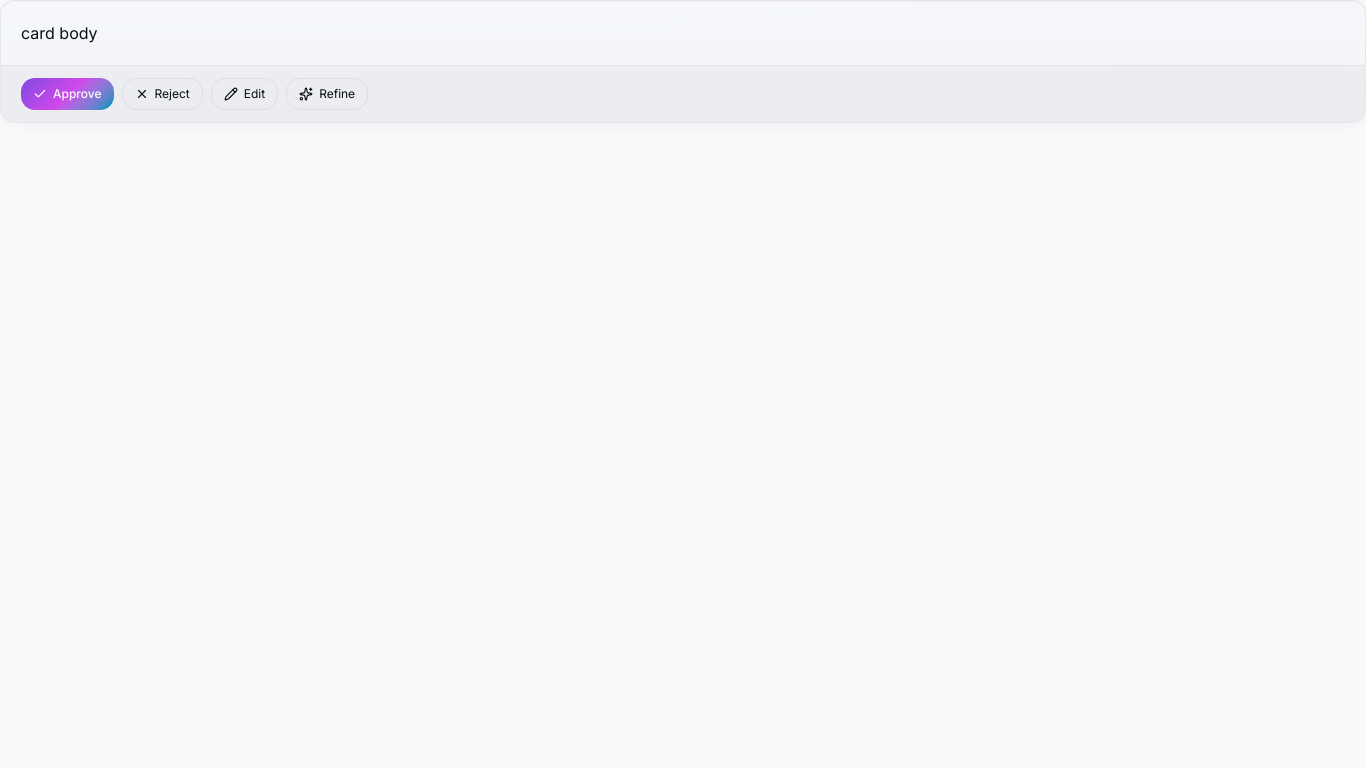
Test case: AdReviewCard — reject flow › requires a reason before submitting
The image size is (1366, 768).
Click the button with test id "output-reject" at (162, 94), box [122,78,203,110]
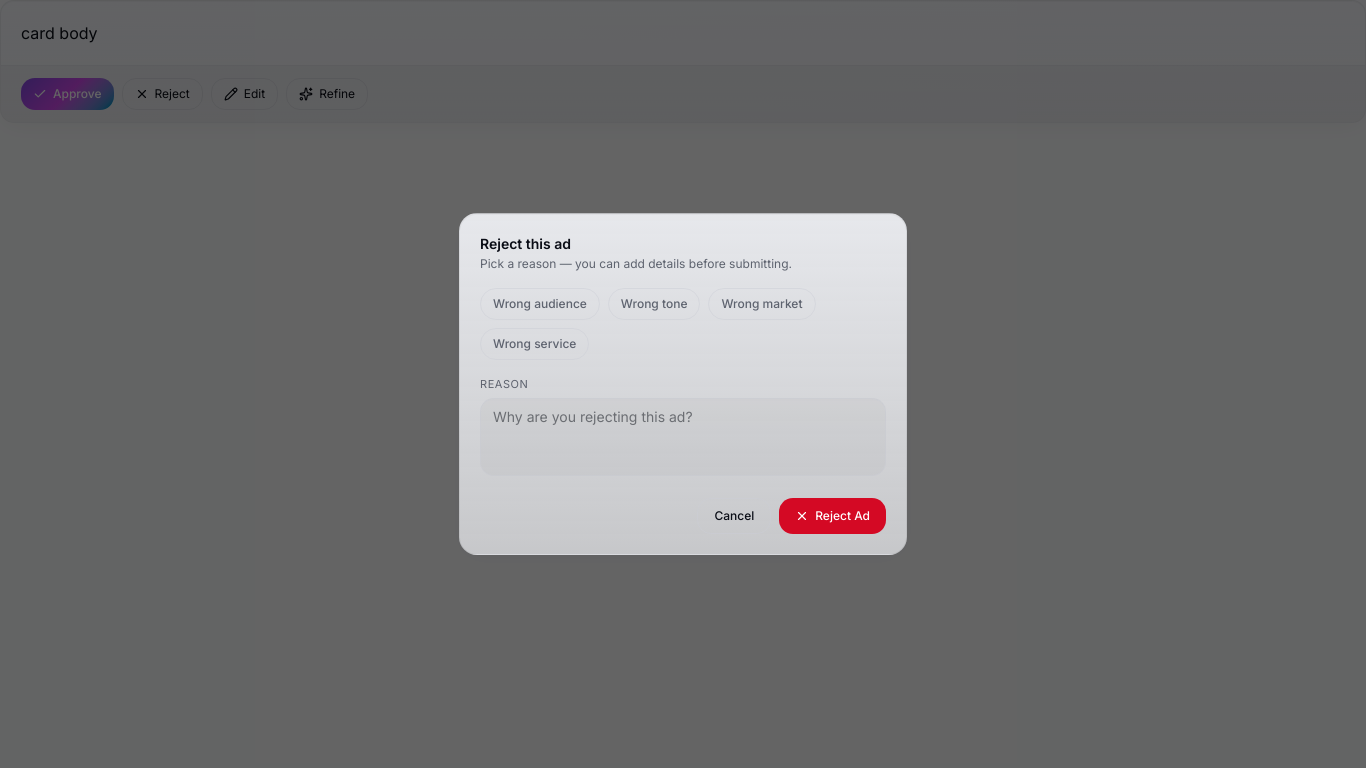
expect the element with test id "reject-modal" is shown: met, box [459,213,907,555]
Click the button with test id "reject-confirm-btn" at (833, 516), box [779,498,886,534]
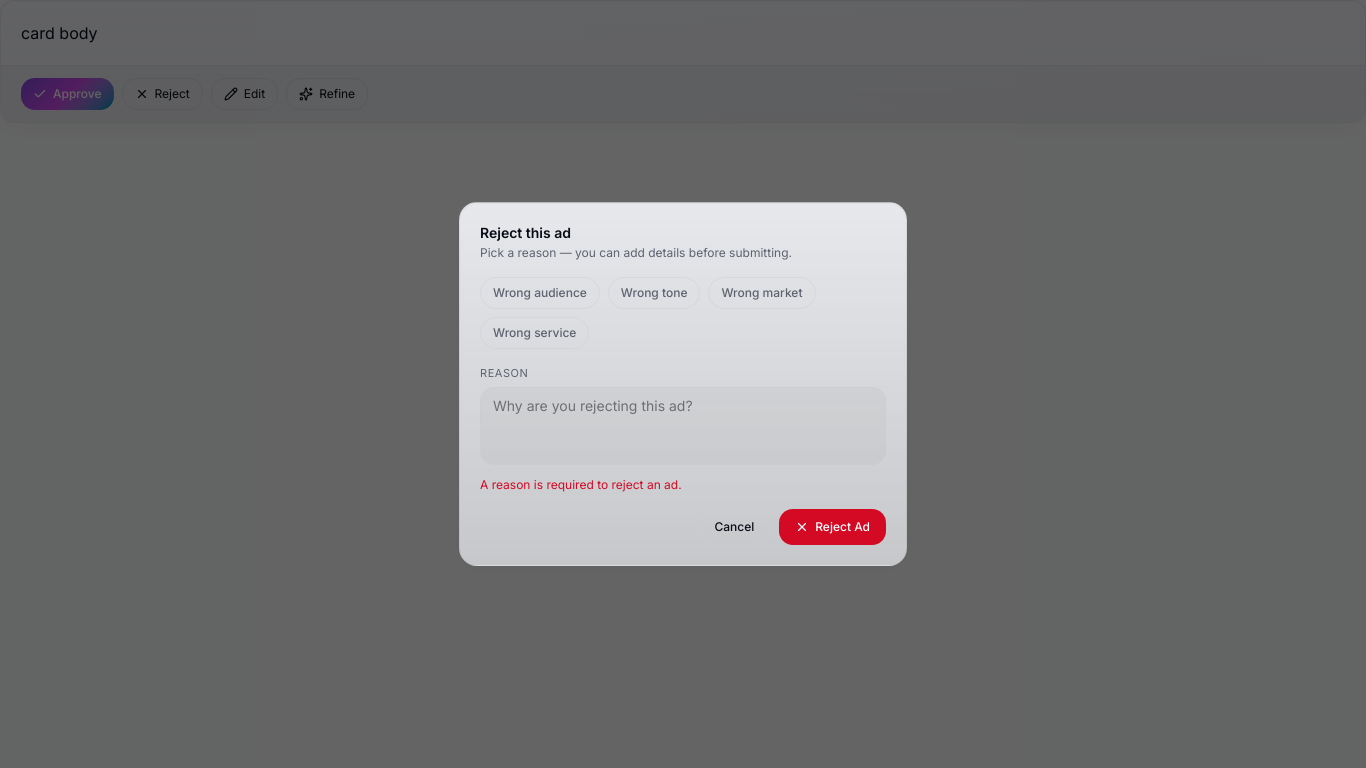
expect the text "A reason is required to reject an ad." is shown: met, box [480,477,682,492]
